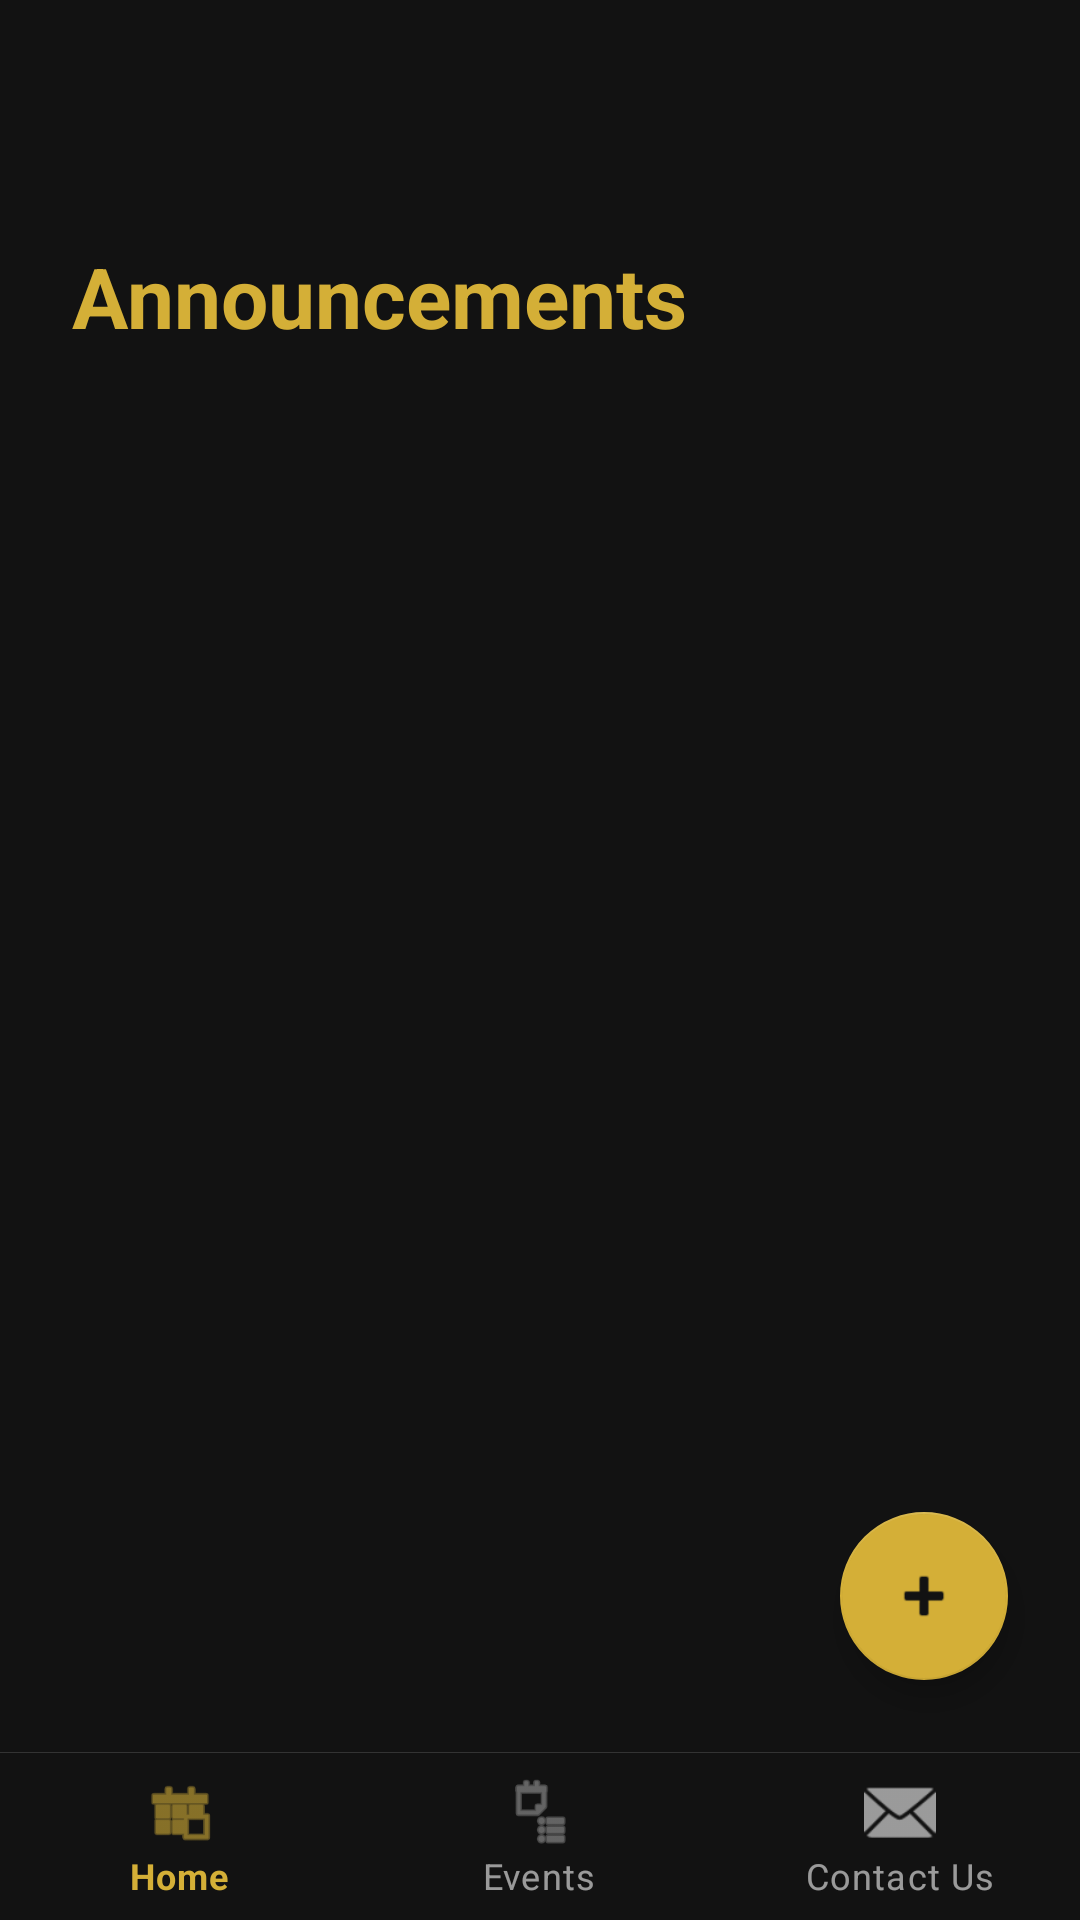

Icons on this 1080×1920 Android screen, each with its box as (x1, y1, x2, y2):
add: (840, 1512, 1008, 1680)
